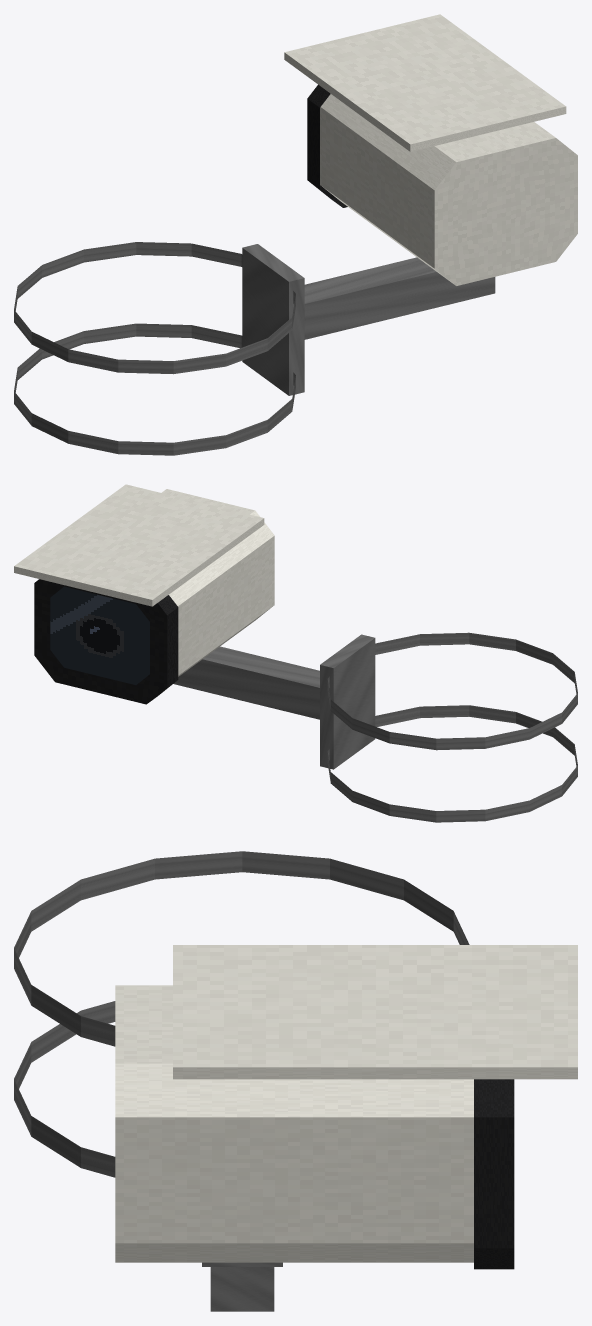
Rendered from red_light_camera_side_left.obj.
The picture shows the model from 3 angles, top to bottom: view 1: azimuth 30°, elevation 25°; view 2: azimuth 150°, elevation 25°; view 3: azimuth 270°, elevation 25°; orthographic projection. The views are drawn at different scales.
Parts seen in each view (by area): view 1: red_light_camera_side_left; view 2: red_light_camera_side_left; view 3: red_light_camera_side_left.
Boxes of the visible parts, x1,y1,x2,y2 form: red_light_camera_side_left: [14, 14, 577, 455]; red_light_camera_side_left: [14, 484, 577, 822]; red_light_camera_side_left: [14, 851, 577, 1311].
Size of the model in its own units: 1.64 by 0.675 by 0.975.
